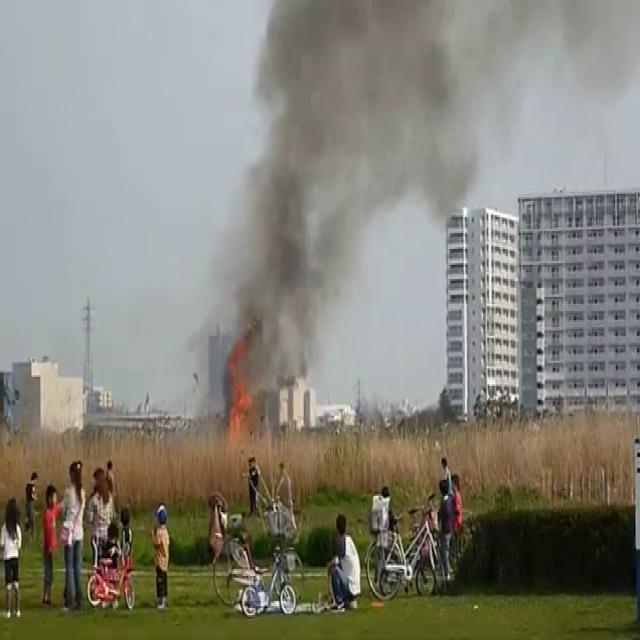Fire: (218, 348, 262, 446)
Smoke: (193, 0, 600, 428)
